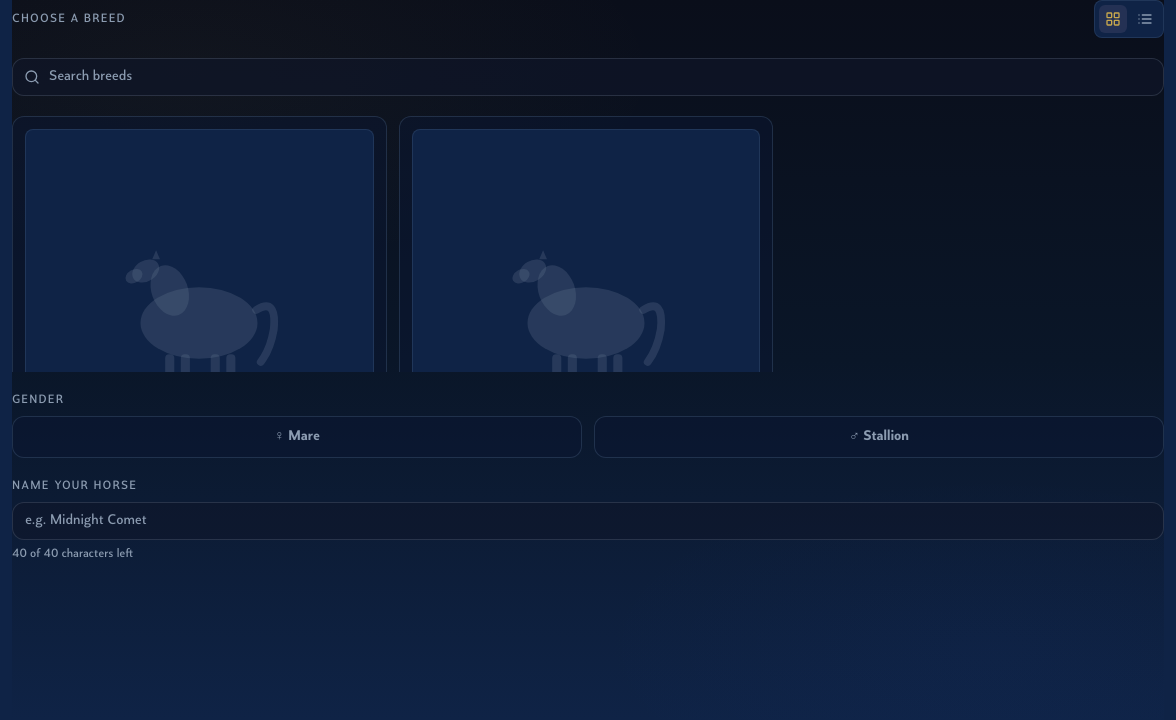
Test: BreedSelector › View toggle › toggles between grid and list view
// Switch to list view
Click the button named "List view".
click(1145, 19)  # box [1131,5,1159,33]
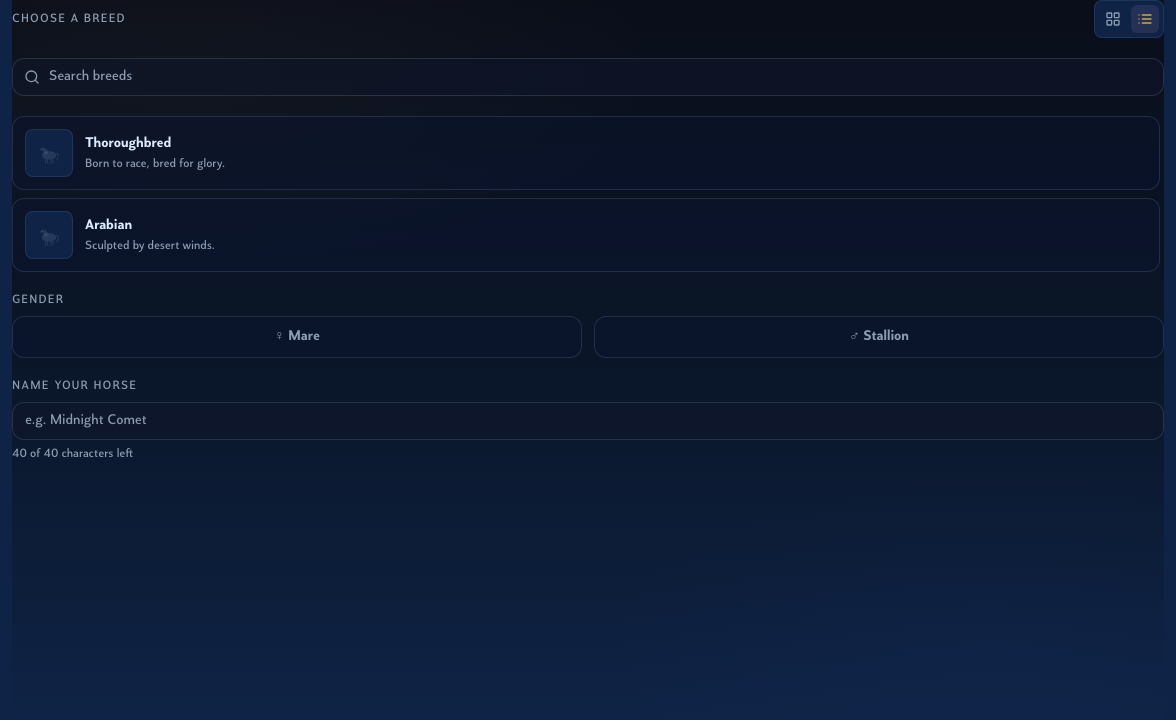
Expected: the button named "List view" is pressed, [1131,5,1159,33]
Expected: the button named "Grid view" is not pressed, [1099,5,1127,33]
